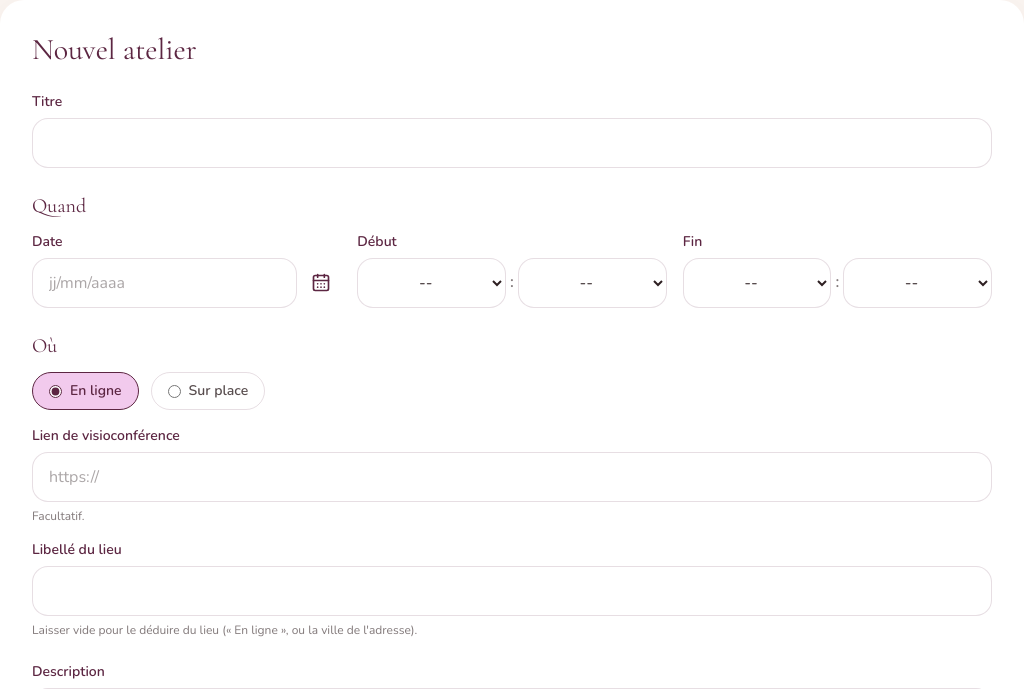
EventForm › tells a date that doesn't exist from one that isn't finished
Type "29/02/2026" into the field labelled "Date" at point(165, 283), box [32,258,297,308]
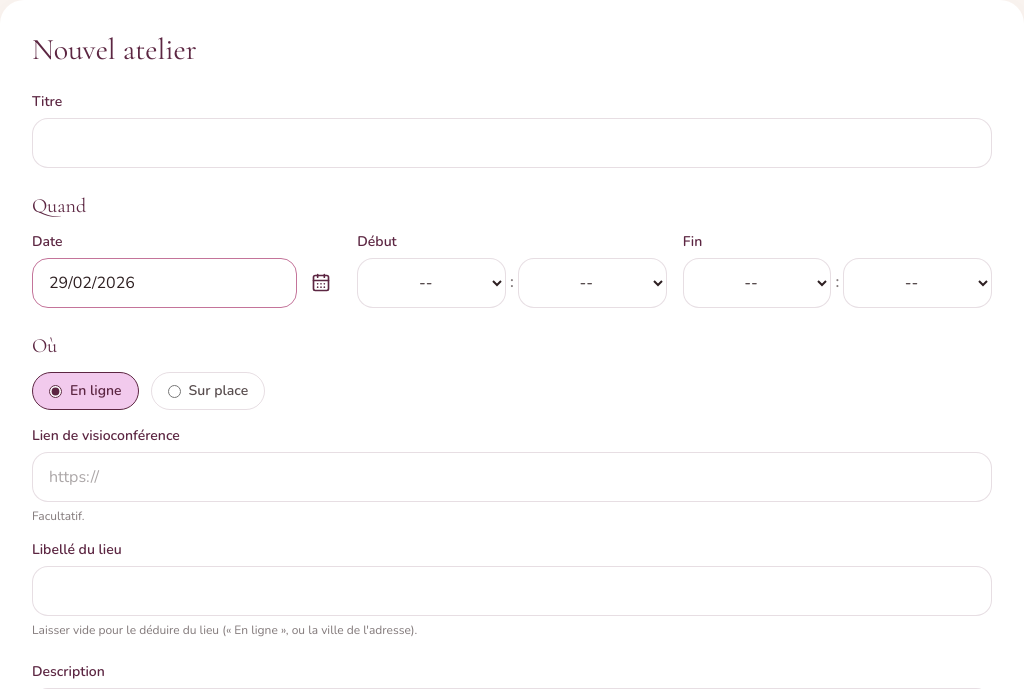
Press Tab
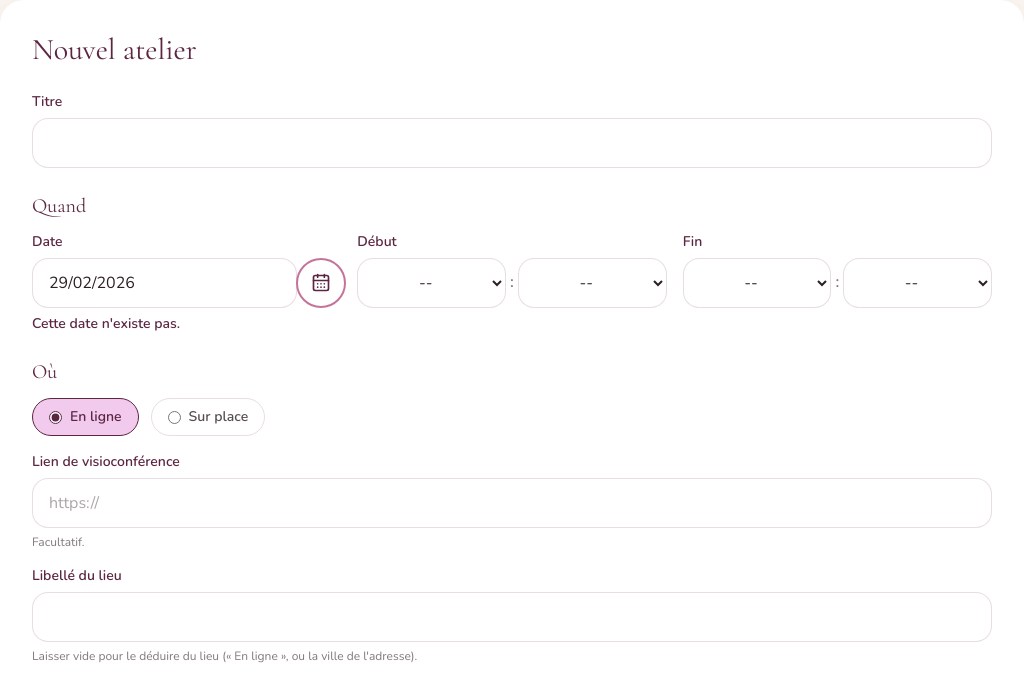
Now the text "Cette date n'existe pas." is shown, box [32,314,180,333]
